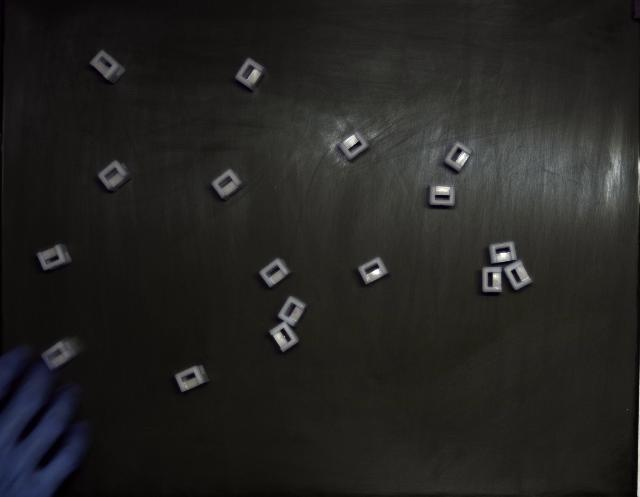fourth_side: (90, 50, 125, 84), (98, 160, 134, 191), (235, 58, 266, 91), (211, 169, 244, 200), (36, 244, 71, 271), (175, 365, 210, 392), (259, 259, 291, 288), (278, 296, 308, 326), (339, 131, 369, 160), (504, 260, 532, 290), (445, 141, 472, 172), (358, 258, 389, 285), (489, 241, 518, 264), (429, 186, 455, 206), (482, 268, 501, 292)
